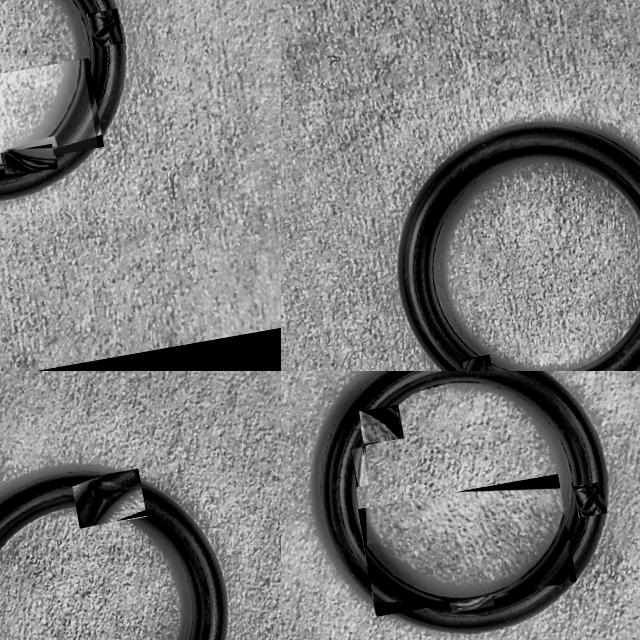切割缺陷: (87, 478, 138, 526), (5, 151, 55, 170), (577, 483, 604, 516), (95, 12, 121, 45), (450, 594, 493, 612), (343, 414, 373, 434), (477, 355, 492, 371)
裂纹: (365, 512, 564, 600), (0, 59, 83, 165), (361, 410, 401, 438), (431, 381, 480, 387), (358, 448, 363, 486), (423, 387, 429, 389)
